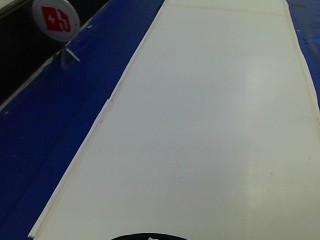battery: (30, 0, 79, 45)
